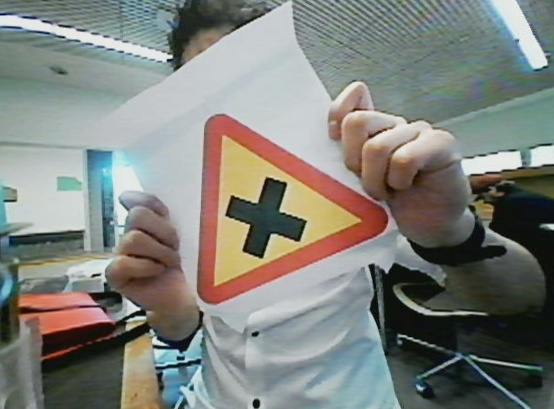junction: (182, 94, 396, 305)
